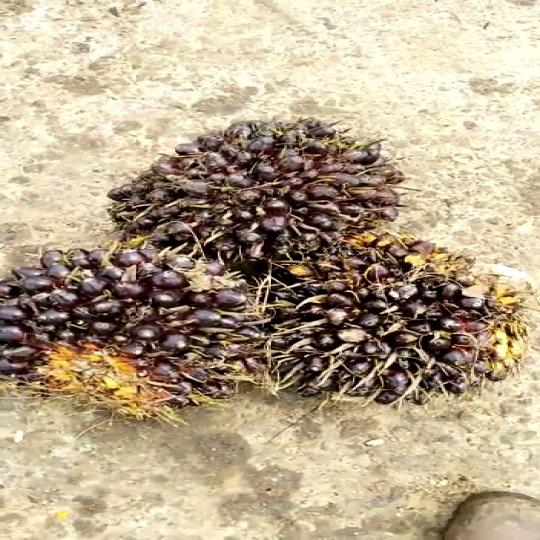mentah: (221, 204, 540, 397), (0, 250, 289, 442), (116, 117, 393, 257)
